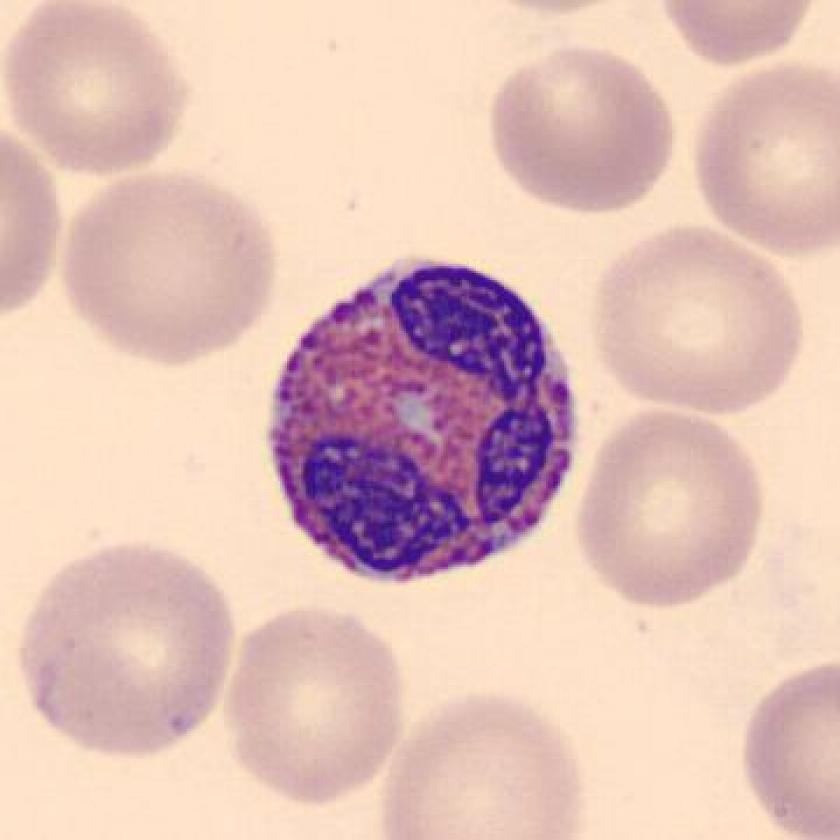eosinophil: (253, 240, 594, 594)
